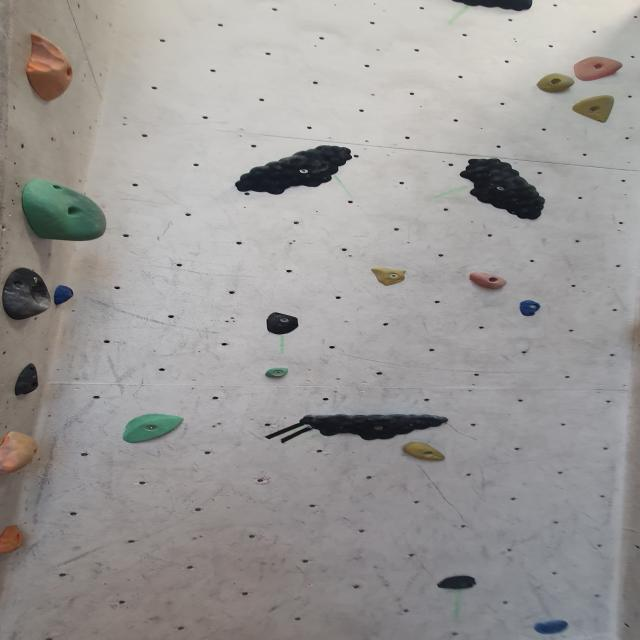Crimp: (119, 410, 187, 446), (368, 264, 410, 288), (0, 521, 25, 555), (467, 271, 507, 288), (516, 299, 543, 319), (265, 365, 292, 378)
Jug: (230, 132, 356, 202), (454, 150, 554, 226), (294, 408, 454, 443), (569, 51, 626, 87), (570, 92, 624, 127), (534, 70, 578, 98), (533, 616, 574, 639)
Pinch: (24, 33, 78, 105), (0, 432, 40, 478), (400, 440, 450, 466)
Pocket: (0, 267, 50, 321)
Sloper: (21, 178, 112, 244), (11, 360, 41, 396), (53, 284, 76, 306)
